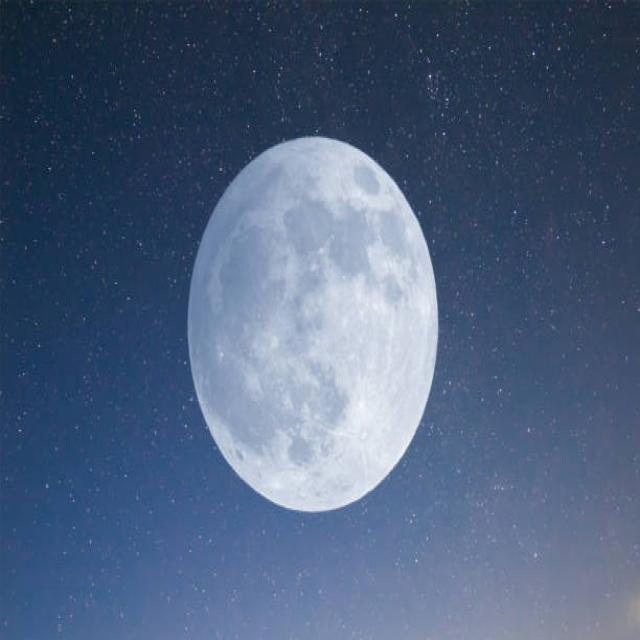moon: (188, 137, 437, 511)
